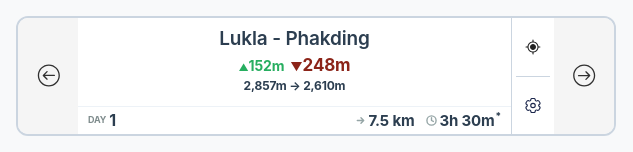
Dashboard Toolbar Behavior › should open tools panel when clicking Tools button
Click the picture with alt text "Tools": (533, 105) [524, 96, 542, 114]
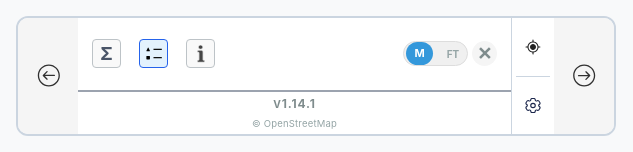
Expected: the element with class "branding-strip" is shown, [78, 90, 511, 134]
